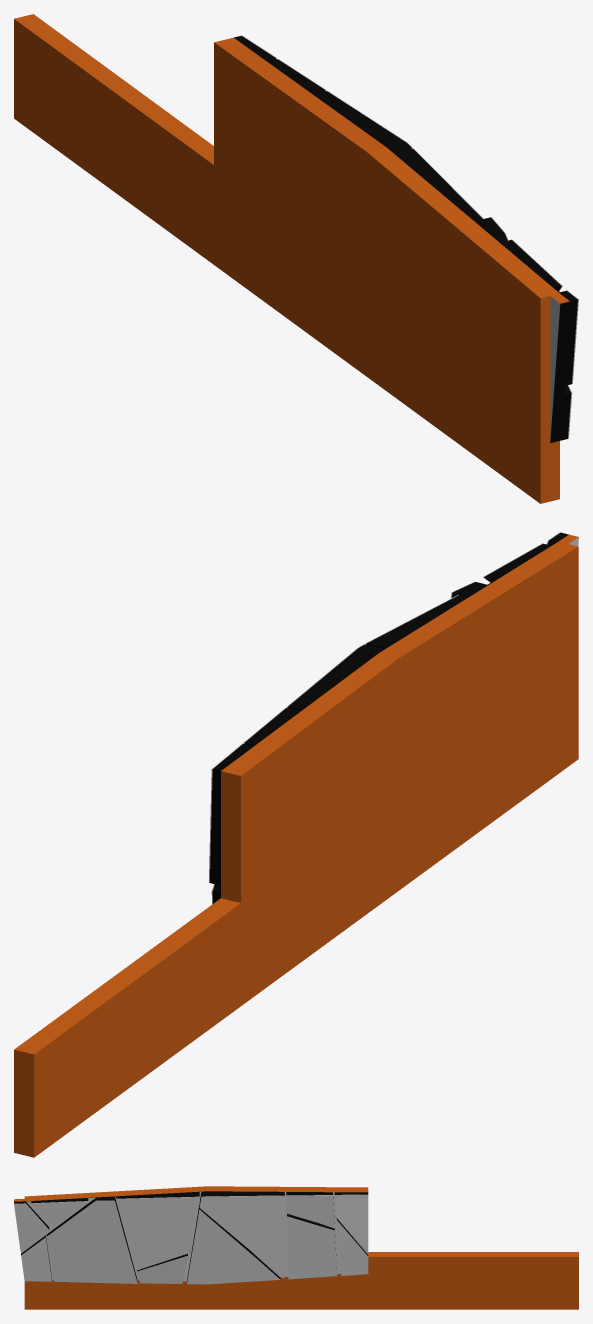
File: building_mall.obj
3 renders of one model, top to bottom at view 1: azimuth 30°, elevation 25°; view 2: azimuth 150°, elevation 25°; view 3: azimuth 270°, elevation 25°, orthographic. The views are drawn at different scales.
Parts seen in each view (by area): view 1: Cube.019_Cube.031; view 2: Cube.019_Cube.031; view 3: Cube.019_Cube.031.
Part boxes in pixels (x1,y1,x2,y2): Cube.019_Cube.031: (14,14,578,503); Cube.019_Cube.031: (14,532,578,1157); Cube.019_Cube.031: (14,1186,578,1309).
Size of the model in its own units: 4.14 by 22.03 by 95.29.
